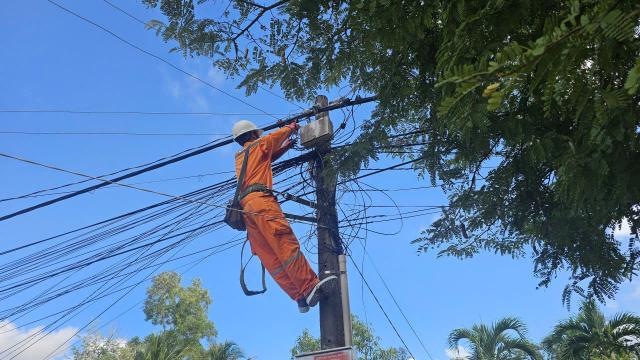gloves: (281, 117, 303, 141)
harness: (226, 175, 305, 213)
helmet: (228, 115, 264, 146)
shoes: (300, 278, 351, 303), (290, 290, 309, 312)
